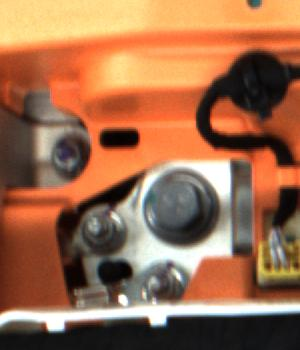nut_b: (137, 162, 229, 249)
